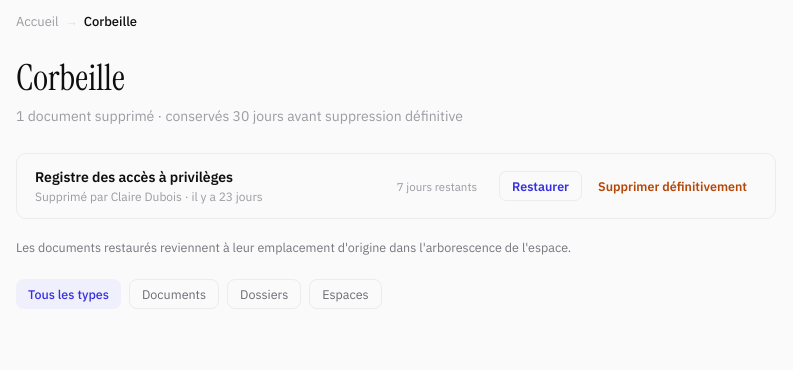
Test case: TrashPage › affiche le message 409 parent manquant sans contourner
This screenshot has width=793, height=370.
Expected: the text "Registre des accès à privilèges" is shown, [35,168,233,186]
Click the button "Restaurer" at (540, 186), box [499,171,582,201]
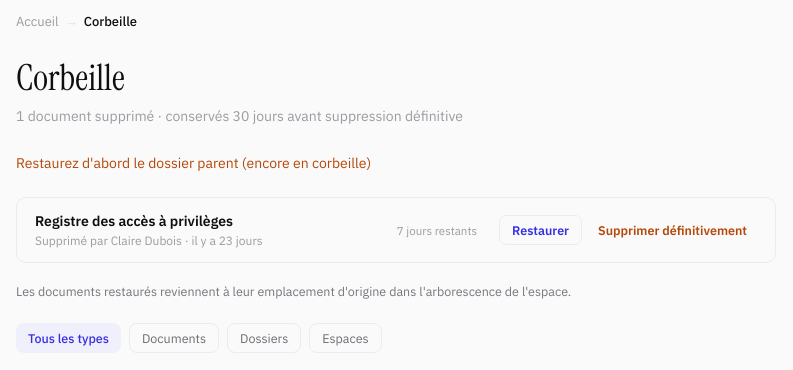
Expected: the text "Registre des accès à privilèges" is shown, [35,212,233,230]
Expected: the text "Restaurez d'abord le dossier parent (encore en corbeille)" is shown, [16,154,371,172]
